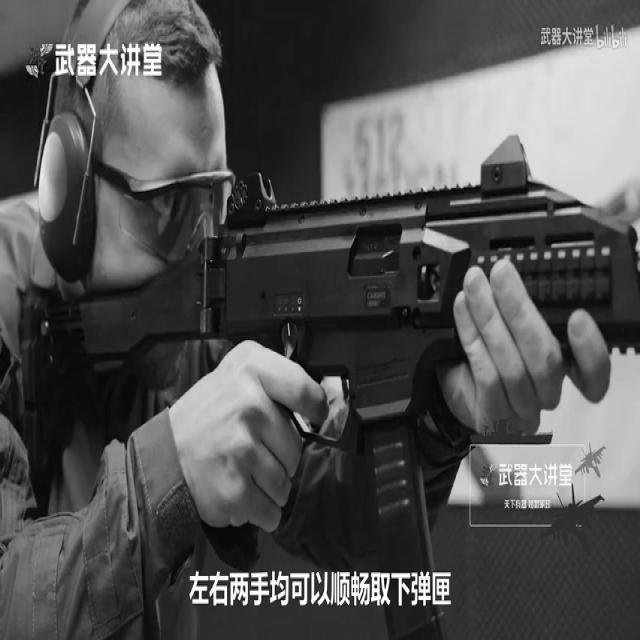Sniper: (0, 171, 640, 640)
